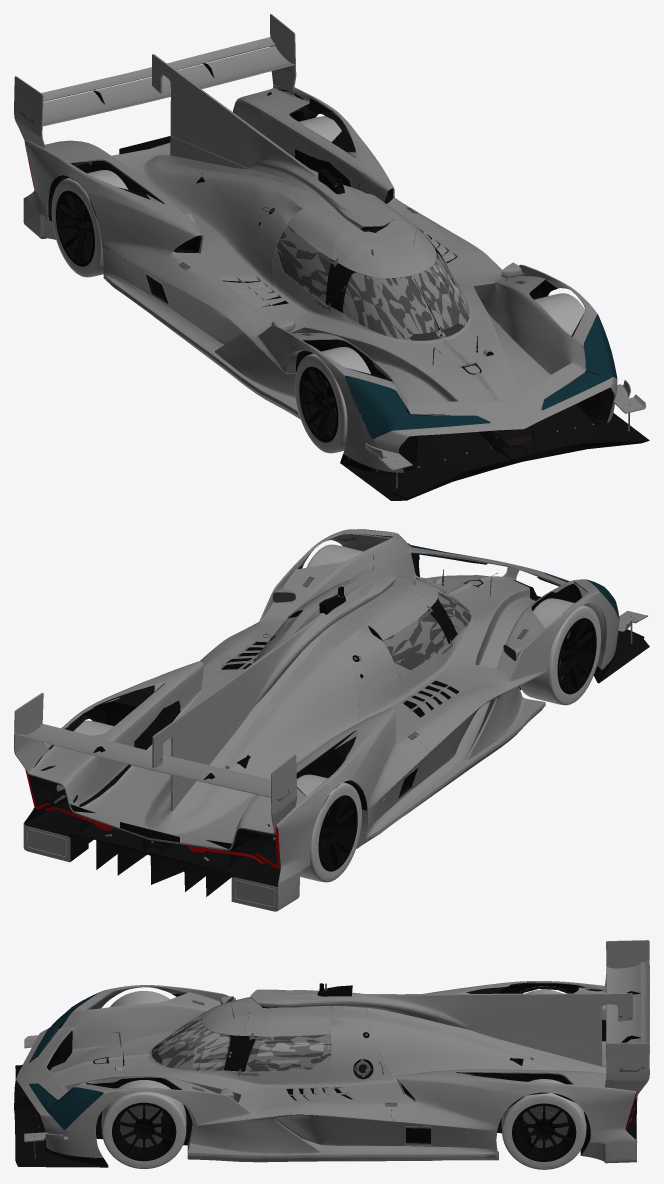
Rendered from acura-arx-06.obj.
The picture shows the model from 3 angles, top to bottom: view 1: azimuth 30°, elevation 25°; view 2: azimuth 150°, elevation 25°; view 3: azimuth 270°, elevation 25°; orthographic projection. The views are drawn at different scales.
Parts seen in each view (by area): view 1: BODY, GLASS, WHEEL_RF, WHEEL_RR, WHEEL_LF; view 2: BODY, WHEEL_RF, WHEEL_RR, GLASS, WHEEL_LF; view 3: BODY, GLASS, WHEEL_LF, WHEEL_LR, WHEEL_RF.
Part boxes in pixels (<box>): BODY: <box>14,14,649,500</box>; GLASS: <box>14,16,617,438</box>; WHEEL_RF: <box>295,346,370,453</box>; WHEEL_RR: <box>51,170,128,277</box>; WHEEL_LF: <box>534,293,584,335</box>; BODY: <box>14,529,649,911</box>; WHEEL_RF: <box>520,598,601,705</box>; WHEEL_RR: <box>273,774,361,882</box>; GLASS: <box>14,529,619,807</box>; WHEEL_LF: <box>306,544,363,567</box>; BODY: <box>14,940,649,1167</box>; GLASS: <box>29,942,649,1129</box>; WHEEL_LF: <box>101,1080,186,1168</box>; WHEEL_LR: <box>501,1079,586,1169</box>; WHEEL_RF: <box>110,991,169,1007</box>.
Size of the model in its own units: 1.99 by 1.17 by 4.99.
